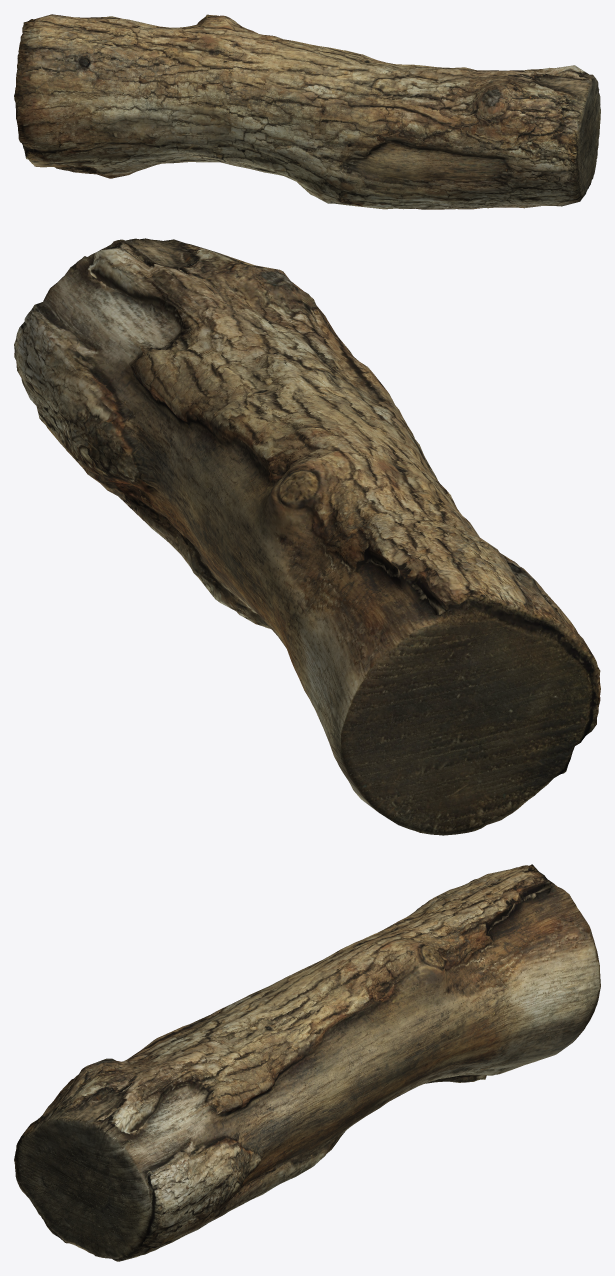
Rendered from log_sizzling_cauldron.fbx.
3 views of the same model, one above another, from view 1: azimuth 30°, elevation 25°; view 2: azimuth 150°, elevation 25°; view 3: azimuth 270°, elevation 25° (orthographic). The views are drawn at different scales.
Parts seen in each view (by area): view 1: log_big_left; view 2: log_big_left; view 3: log_big_left.
Part boxes in pixels (<box>): log_big_left: <box>14,14,600,209</box>; log_big_left: <box>14,238,600,835</box>; log_big_left: <box>14,864,600,1261</box>.
Bounding box in the file's own units: 211 × 67.55 × 190.
